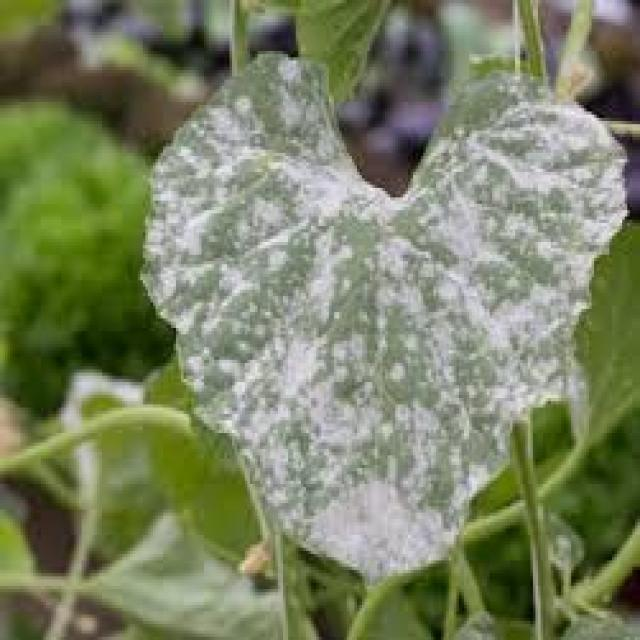powdery_mildew: (120, 59, 620, 633)
